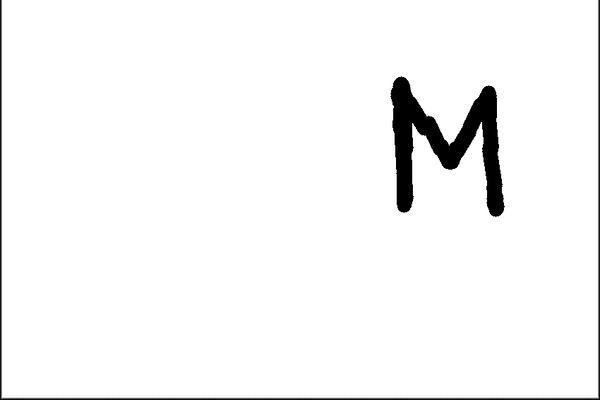M: (382, 72, 512, 216)
